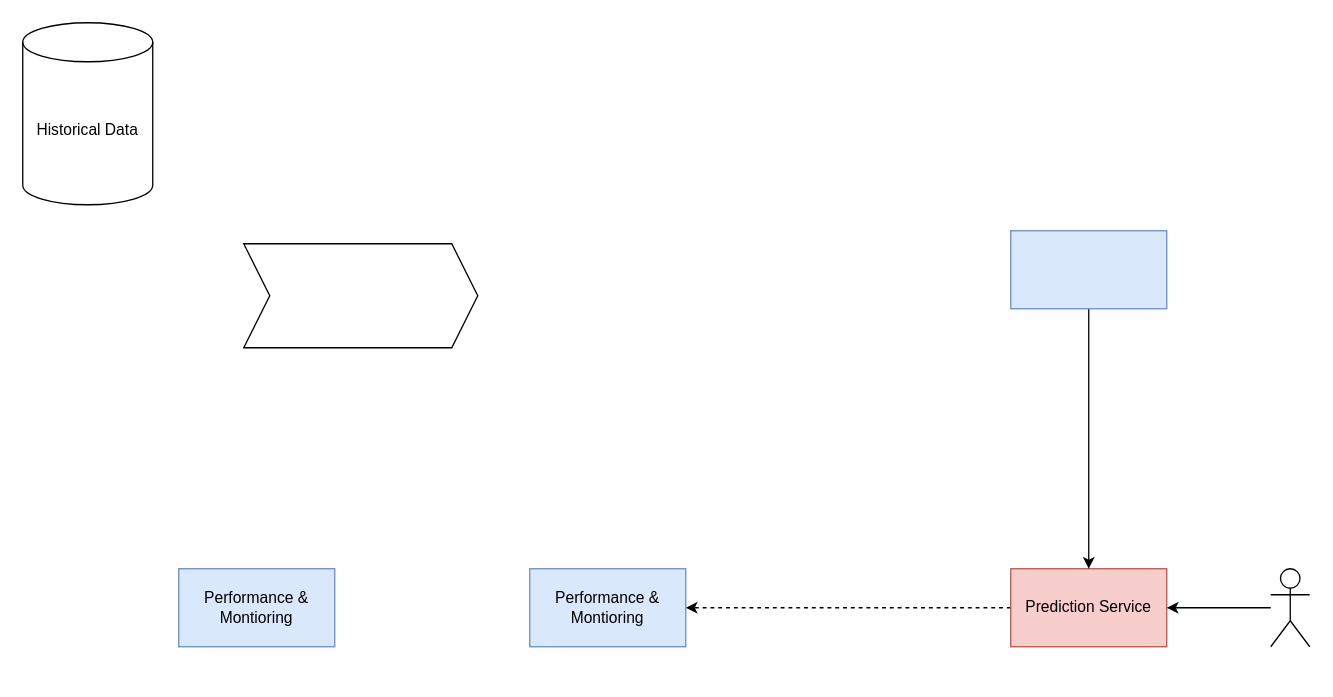
This 1333x697 diagram has some shape labels left out. The shapes that lost their labels are listed below. From the top down, each one's box as (x1, y1, x2, y2) in pixels, then its label:
(1009, 229, 1167, 309): Model Serving
(1269, 567, 1310, 647): Actor
